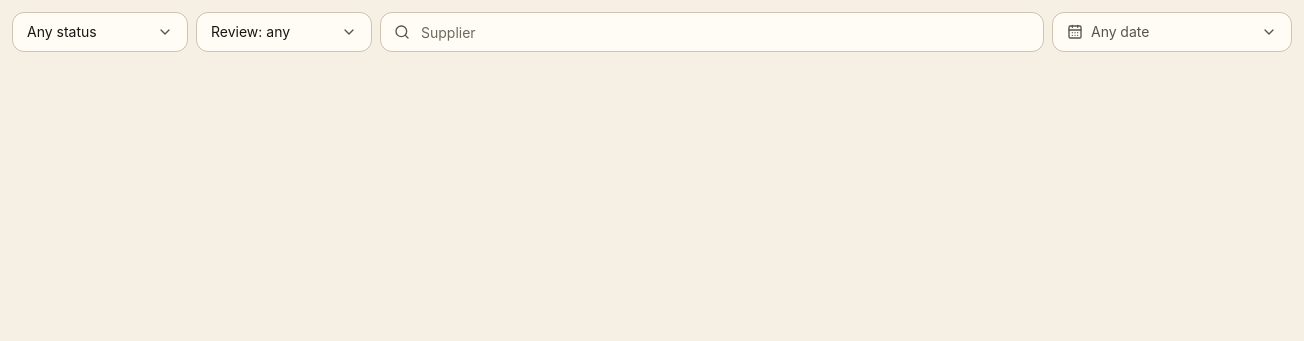
Scenario: Filters toolbar › starts empty, shows removable chips and clears all
Later steps or results of the test are not shown.
Expected: the button with aria-label "Invoice date: Any date" is shown, [1052, 12, 1292, 52]
Type "acme" into the field labelled "Supplier".
click(712, 32); type("acme")  # box [380, 12, 1044, 52]
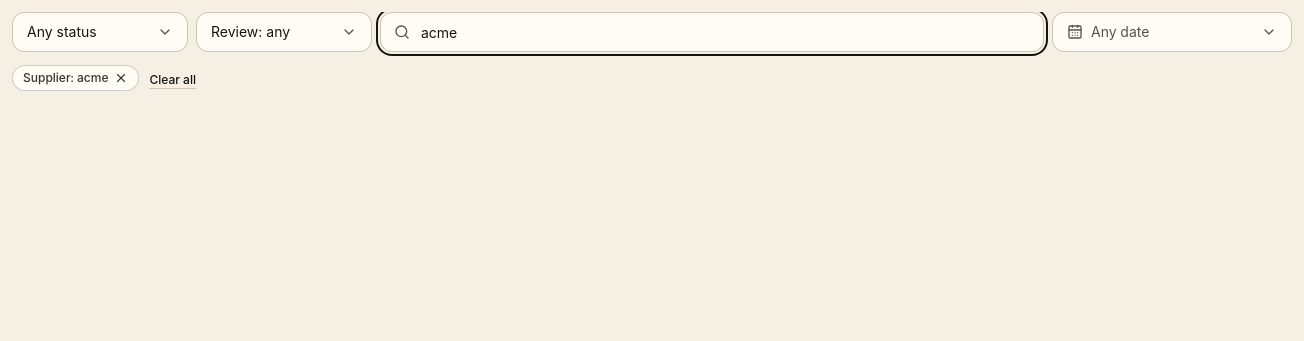
Click the dropdown labelled "status".
click(100, 32)  # box [12, 12, 188, 52]
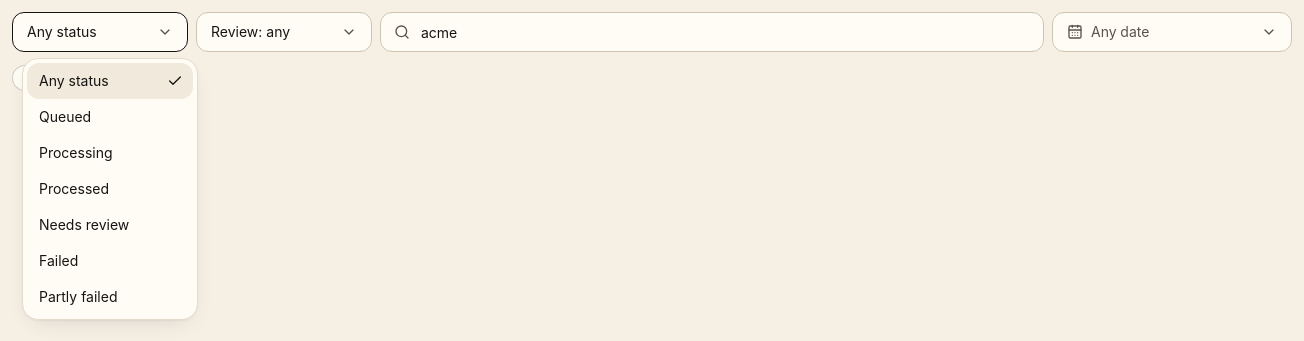
Click the option "Failed".
click(59, 260)  # box [39, 252, 78, 269]
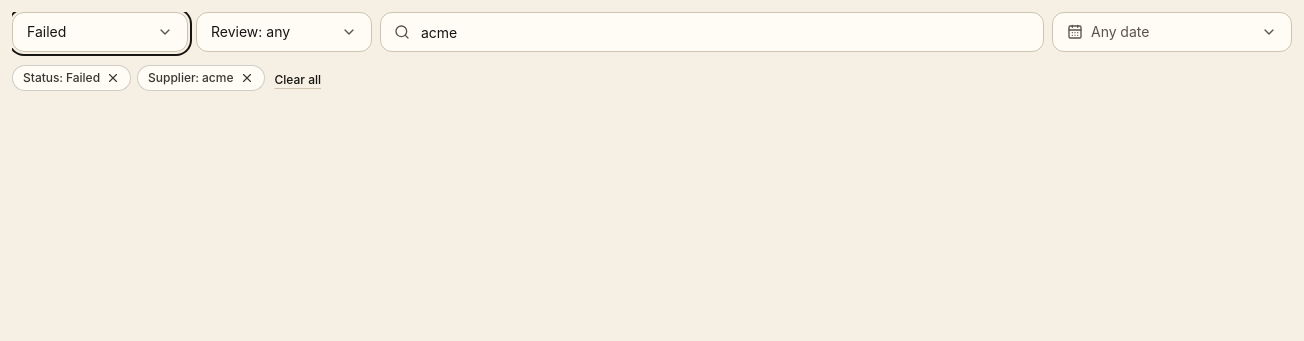
Expected: the button "Status: Failed" is shown, [12, 65, 131, 91]
